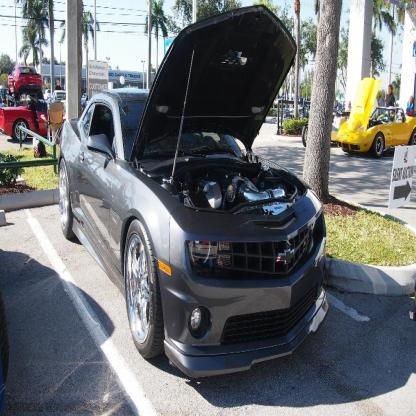Car: (58, 5, 331, 380), (337, 81, 416, 158), (1, 98, 53, 143), (9, 63, 43, 99)
